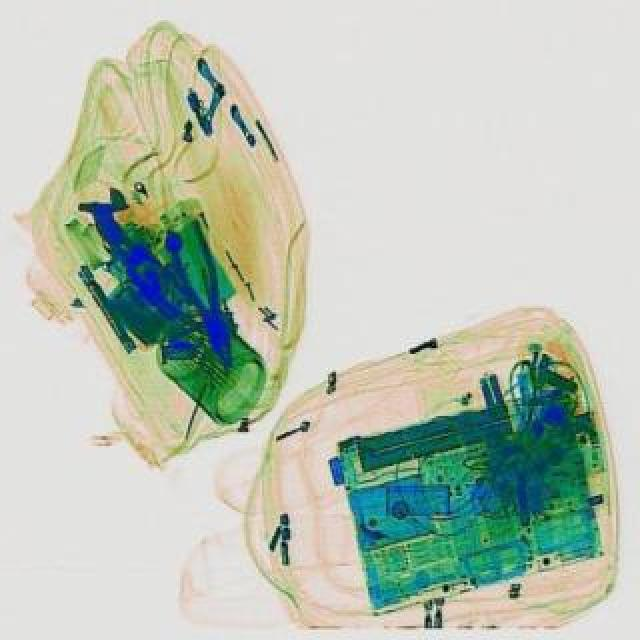wrench: (160, 214, 244, 370)
